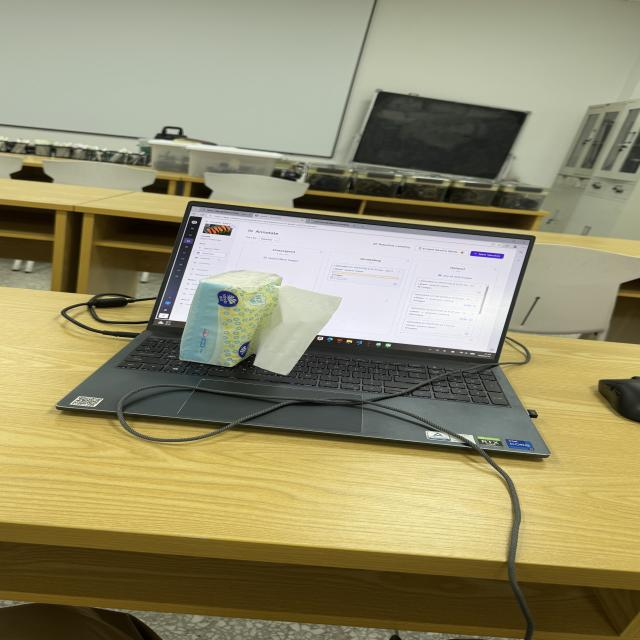tissue: (181, 271, 341, 374), (181, 271, 282, 367), (255, 286, 341, 374)
